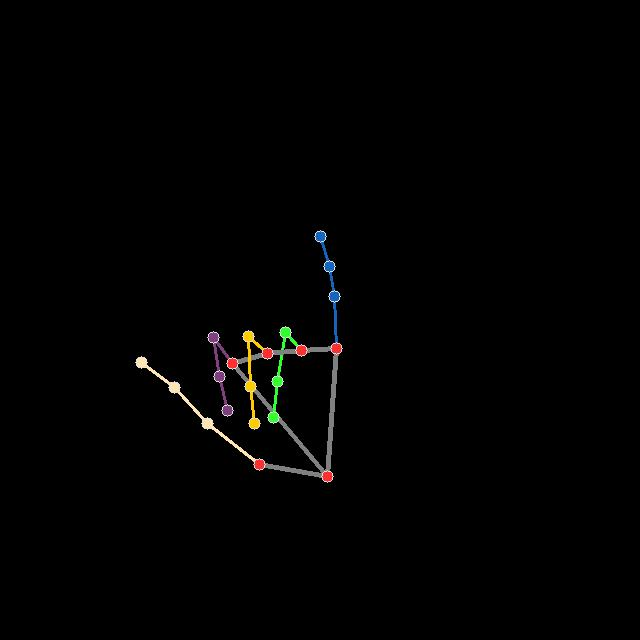skr: (134, 228, 344, 484)
